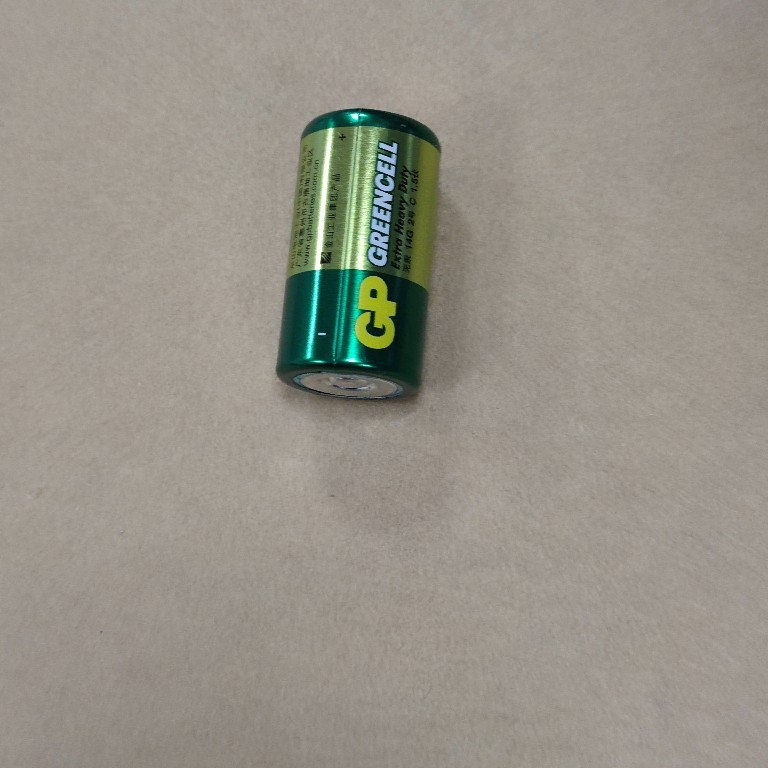charge: (269, 105, 445, 403)
